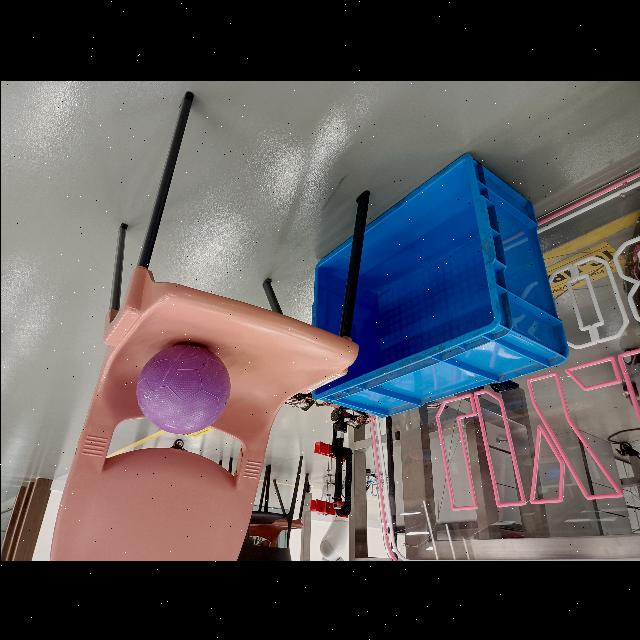P: (131, 340, 227, 436)
